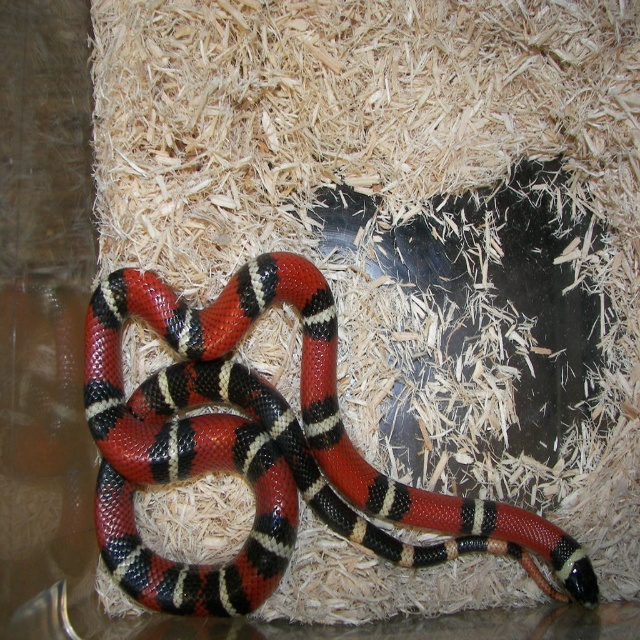Snake: (86, 250, 604, 608)
